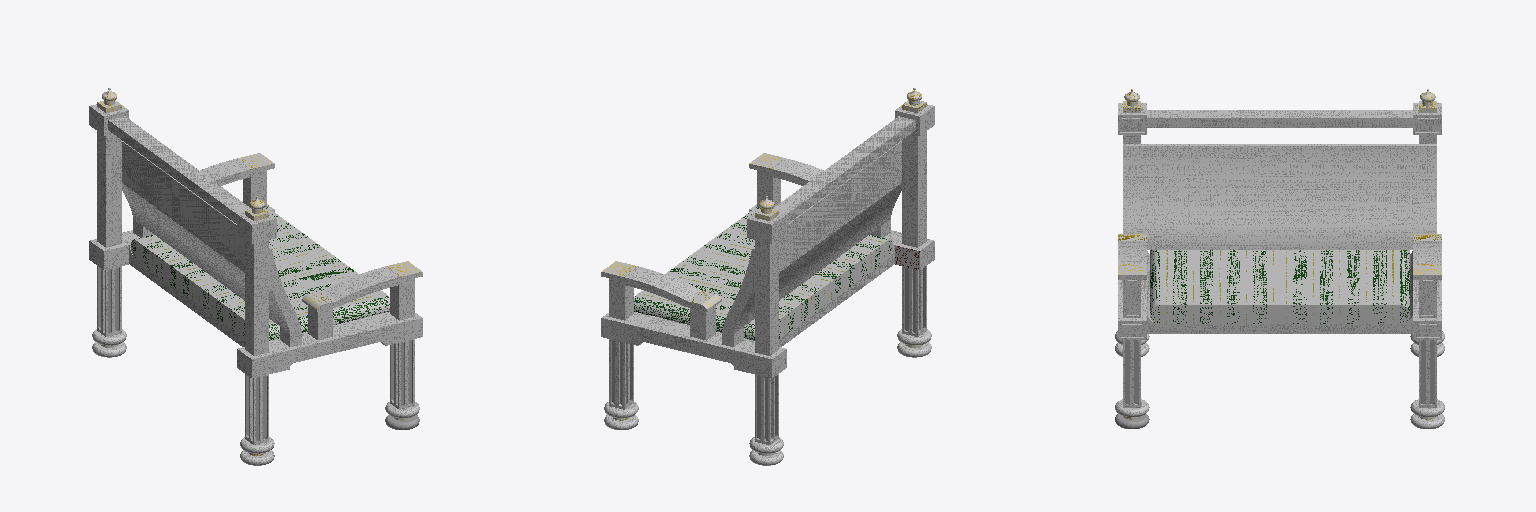
The picture shows the model from 3 angles: view 1: azimuth 30°, elevation 25°; view 2: azimuth 150°, elevation 25°; view 3: azimuth 270°, elevation 25°; orthographic projection.
Parts seen in each view (by area): view 1: mesh1_mesh1-geometry; view 2: mesh1_mesh1-geometry; view 3: mesh1_mesh1-geometry.
Part boxes in pixels (left/top/right/bottom): mesh1_mesh1-geometry: left=89, top=88, right=422, bottom=465; mesh1_mesh1-geometry: left=601, top=88, right=934, bottom=465; mesh1_mesh1-geometry: left=1115, top=89, right=1444, bottom=428.
Size of the model in its own units: 0.4178 by 0.6005 by 0.6817.
7 materials, 2 textured.